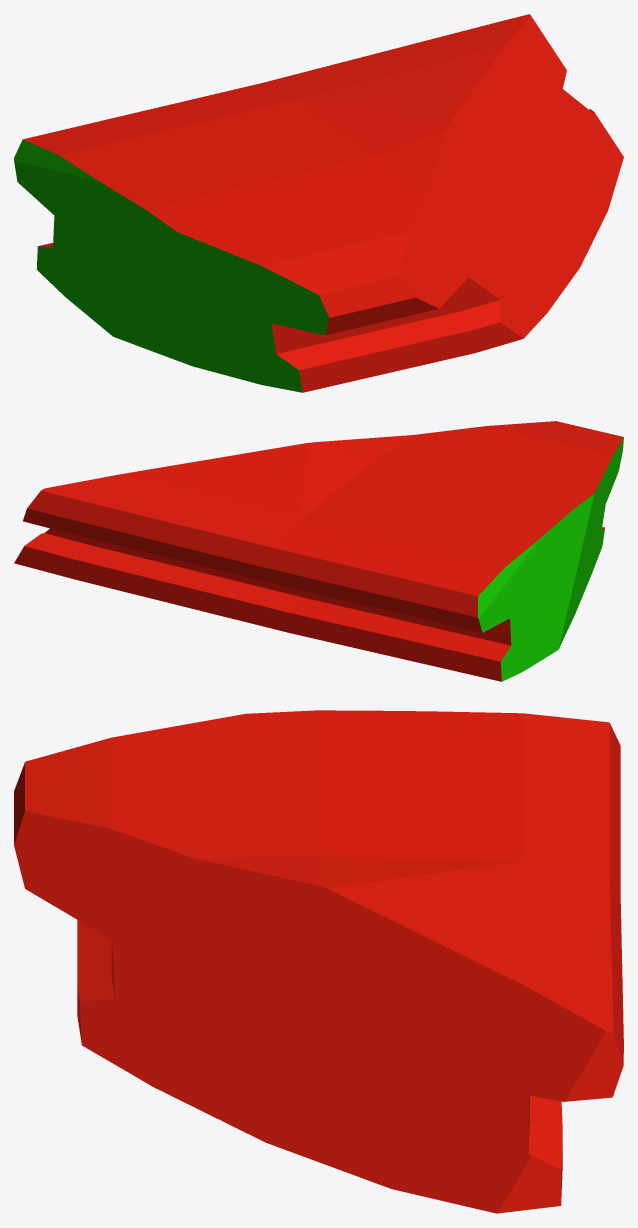
File: SM_Fence1m_Half-Broken_01.024.fbx
3 views of the same model, one above another, from view 1: azimuth 30°, elevation 25°; view 2: azimuth 150°, elevation 25°; view 3: azimuth 270°, elevation 25° (orthographic). The views are drawn at different scales.
Visible parts, largest first — view 1: SM_Fence1m_Half-Broken_01.024; view 2: SM_Fence1m_Half-Broken_01.024; view 3: SM_Fence1m_Half-Broken_01.024.
Part boxes in pixels (bbox=[...]): SM_Fence1m_Half-Broken_01.024: bbox=[14, 14, 623, 392]; SM_Fence1m_Half-Broken_01.024: bbox=[14, 421, 623, 681]; SM_Fence1m_Half-Broken_01.024: bbox=[14, 710, 623, 1213].
Size of the model in its own units: 0.5742 by 0.148 by 0.4268.
